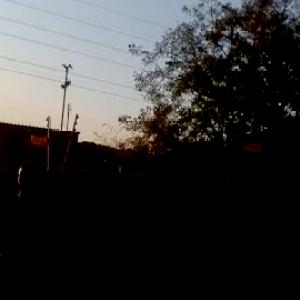follow: (0, 153, 52, 299)
